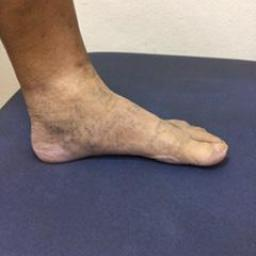Medial View -Left Foot-: (8, 66, 234, 190)
